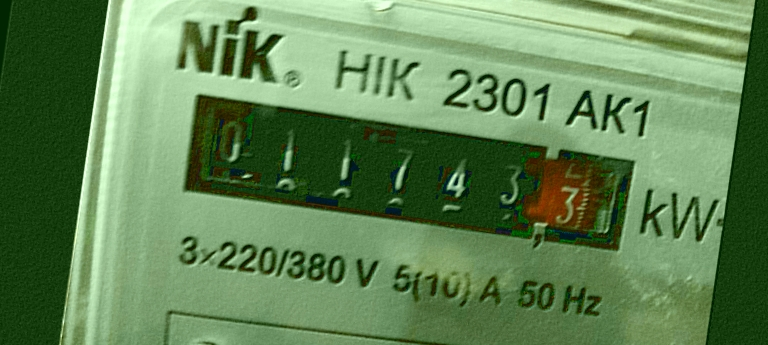0: (214, 116, 249, 167)
1: (332, 134, 360, 185), (278, 126, 301, 176)
3: (494, 160, 529, 210), (552, 182, 582, 229)
4: (441, 151, 475, 203)
7: (387, 144, 418, 195)
screen: (166, 82, 644, 266)
